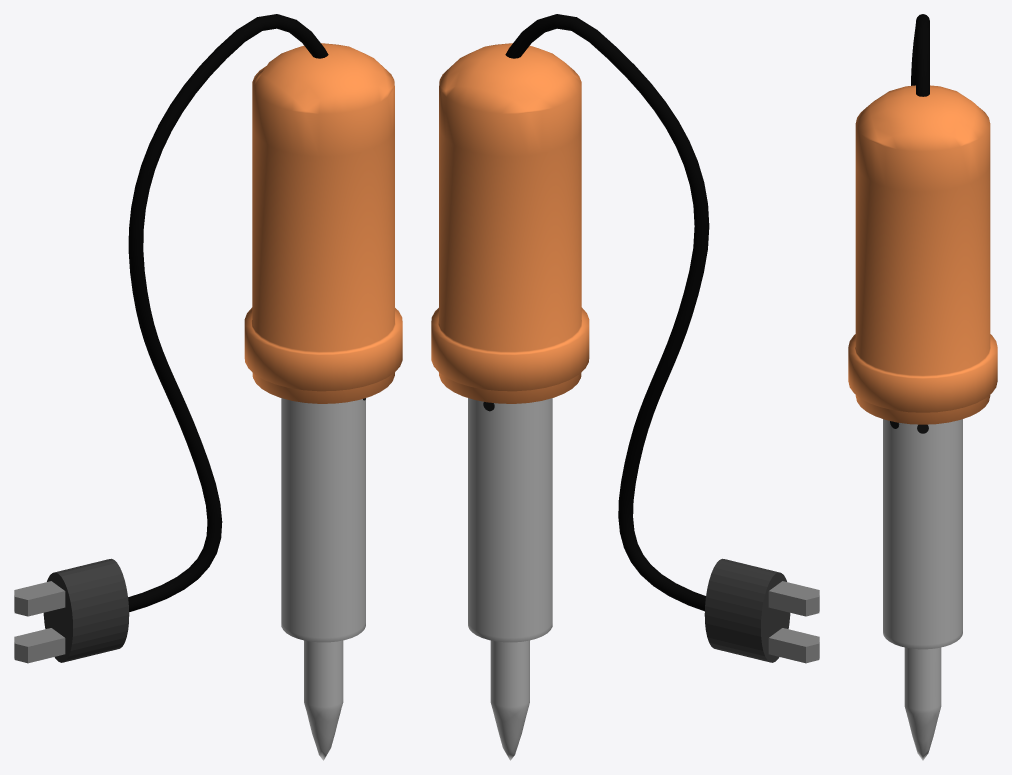
Rendered from soldering iron.glb.
The picture shows the model from 3 angles, left to right: view 1: azimuth 30°, elevation 25°; view 2: azimuth 150°, elevation 25°; view 3: azimuth 270°, elevation 25°; orthographic projection. The views are drawn at different scales.
Visible parts, largest first — view 1: Cylinder, Cylinder.001, BezierCurve, Cylinder.006, Cylinder.002, Cylinder.007; view 2: Cylinder, Cylinder.001, BezierCurve, Cylinder.006, Cylinder.002, Cylinder.007; view 3: Cylinder, Cylinder.001, Cylinder.002, BezierCurve.
Part boxes in pixels (box(x1,y1,x2,y2)): Cylinder: box(244, 43, 402, 403); Cylinder.001: box(281, 398, 365, 642); BezierCurve: box(128, 14, 328, 612); Cylinder.006: box(43, 558, 129, 662); Cylinder.002: box(304, 640, 343, 760); Cylinder.007: box(14, 581, 65, 663); Cylinder: box(431, 43, 589, 403); Cylinder.001: box(468, 398, 552, 642); BezierCurve: box(505, 14, 709, 611); Cylinder.006: box(704, 558, 790, 662); Cylinder.002: box(490, 640, 529, 760); Cylinder.007: box(768, 581, 819, 663); Cylinder: box(848, 85, 997, 424); Cylinder.001: box(883, 419, 962, 649); Cylinder.002: box(904, 647, 941, 760); BezierCurve: box(911, 14, 929, 96).
Size of the model in its own units: 2.36 by 4.53 by 0.8575.
